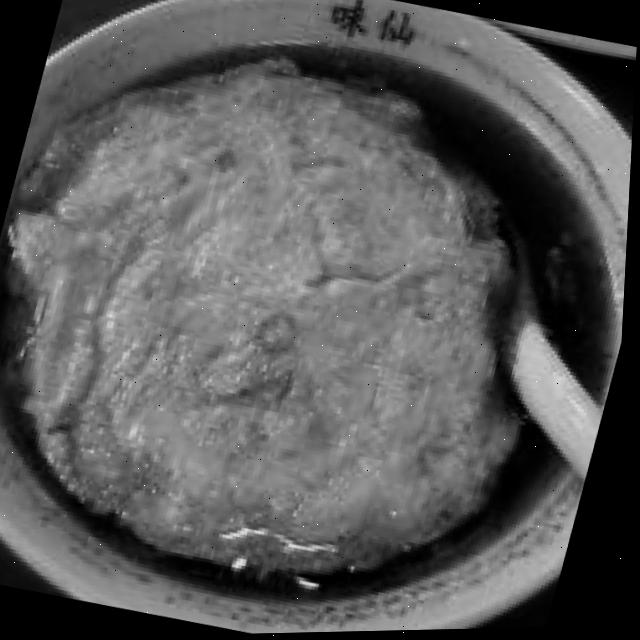面条主食: (75, 0, 640, 638)
